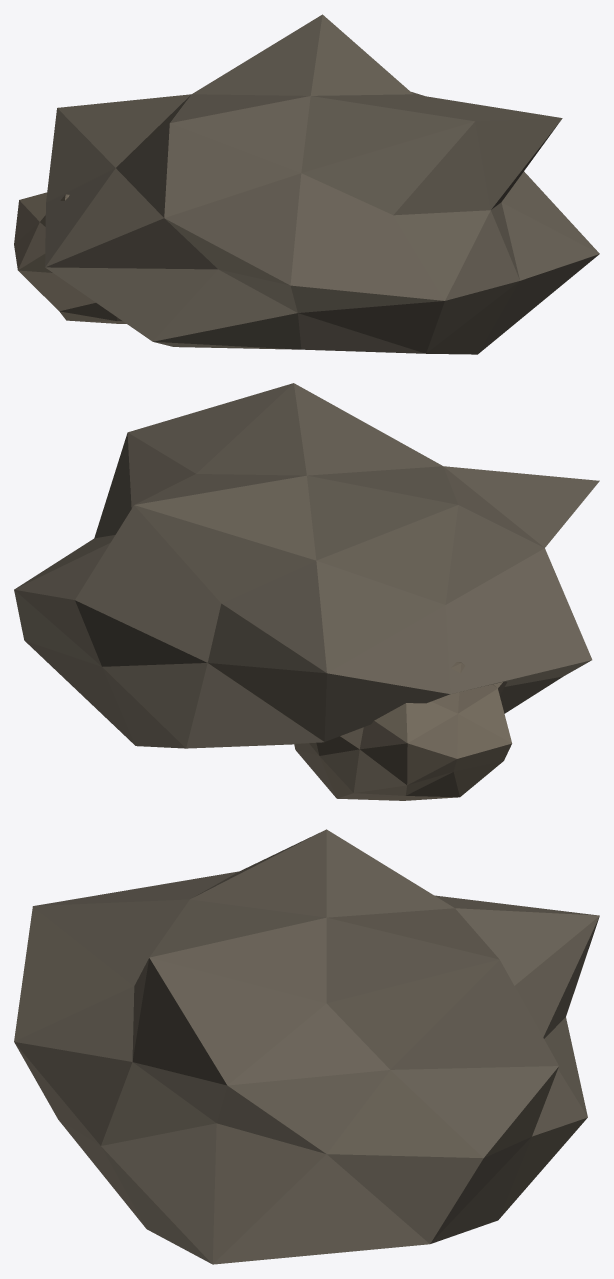
File: rock3.glb
3 views of the same model, one above another, from view 1: azimuth 30°, elevation 25°; view 2: azimuth 150°, elevation 25°; view 3: azimuth 270°, elevation 25° (orthographic). The views are drawn at different scales.
Visible parts, largest first — view 1: rock3; view 2: rock3; view 3: rock3.
Boxes of the visible parts, x1,y1,x2,y2 form: rock3: (14, 14, 599, 354); rock3: (14, 383, 599, 800); rock3: (14, 829, 599, 1264).
Size of the model in its own units: 2.87 by 1.39 by 2.47.
